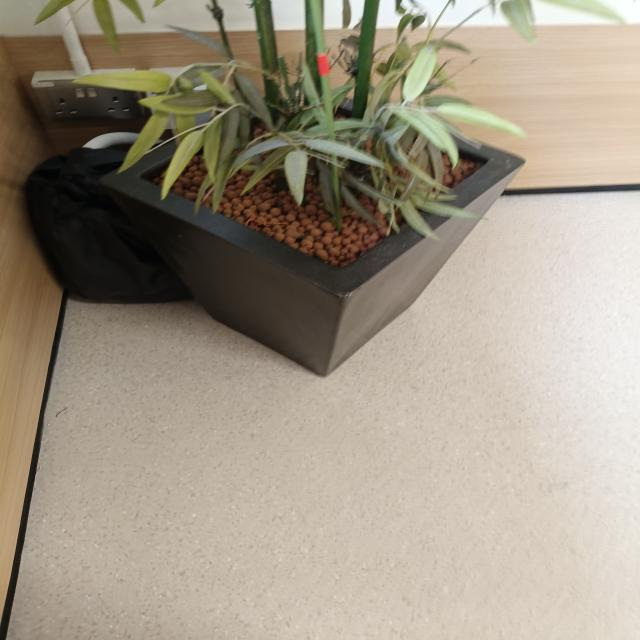Pot: (99, 82, 526, 377)
